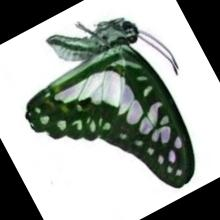butterfly: (25, 16, 195, 187)
